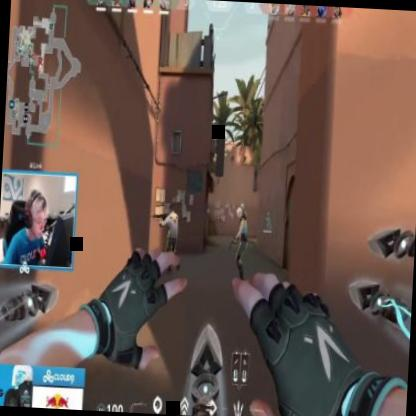enemy: (156, 202, 184, 274), (228, 203, 250, 284)
enemy_head: (236, 204, 244, 220), (168, 204, 173, 215)
